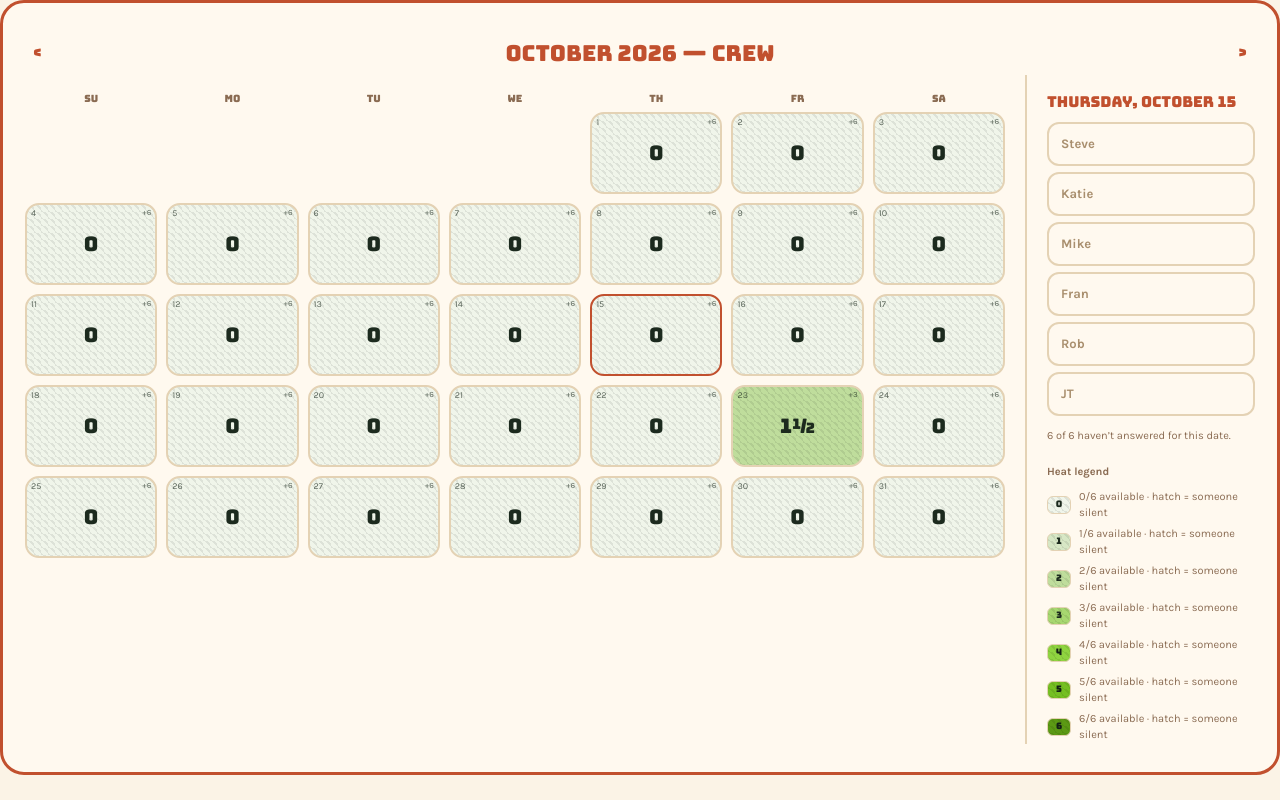
Test: the detail panel › names everyone, including the ones who said nothing
Click the button "23 +3 1½": [798, 426] box [731, 385, 864, 467]
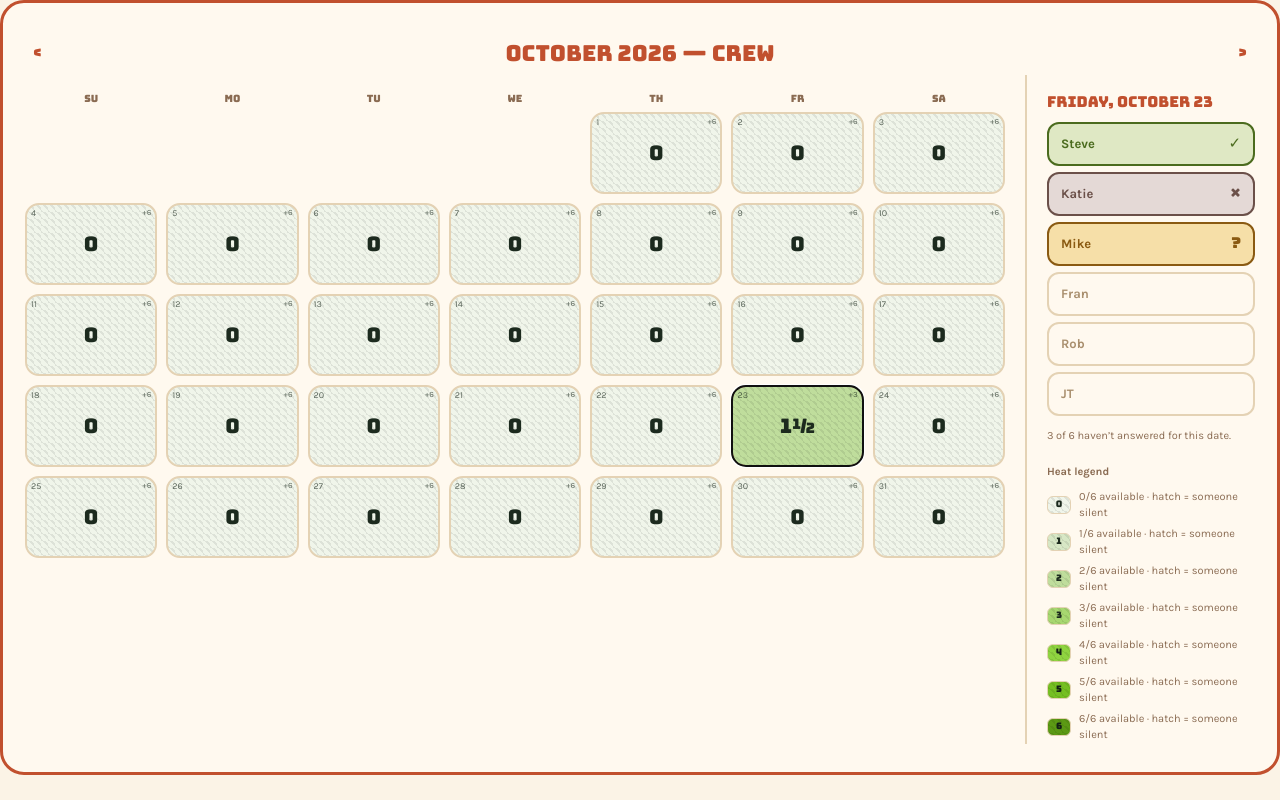
Expected: the text "Steve" is shown, [1061, 134, 1095, 153]
Expected: the text "3 of 6 haven’t answered for this date." is shown, [1047, 428, 1255, 444]
